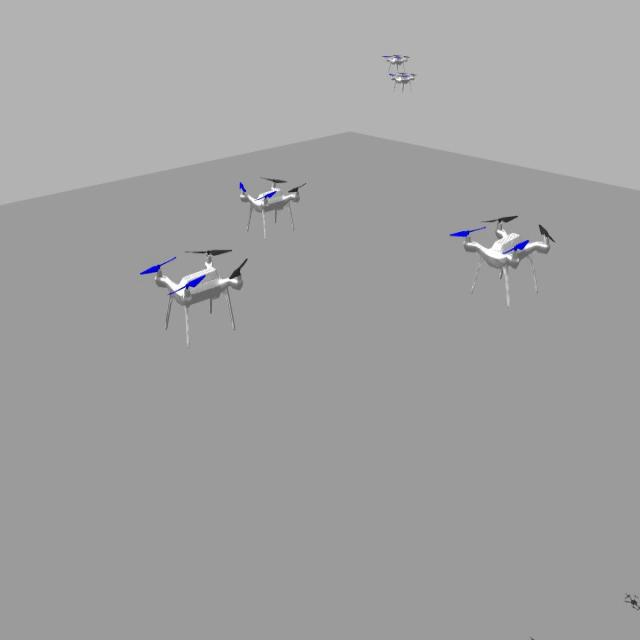Drone: (134, 240, 252, 351)
